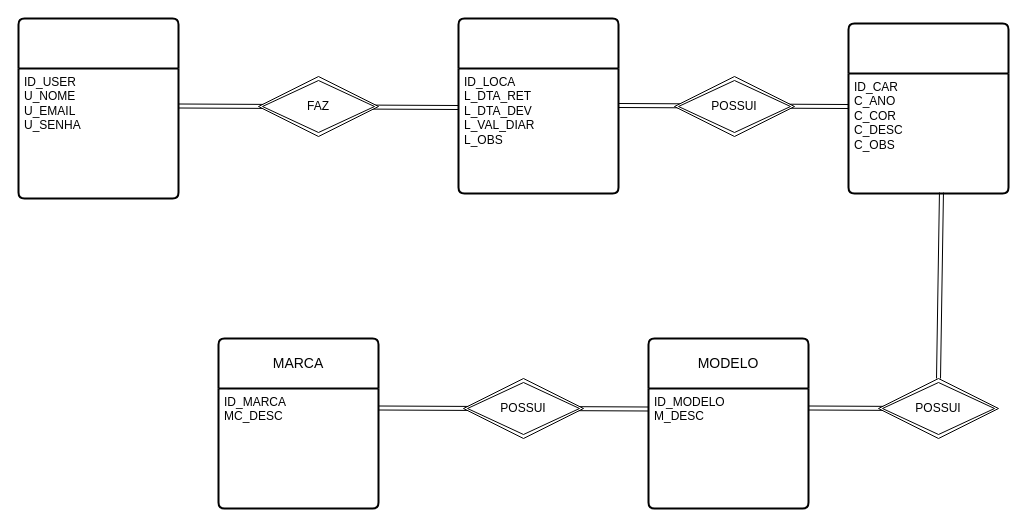
The diagram is 1026 pixels wide and 526 high, and some of its shapes have lost their labels. Each missing label, with the box of its shape:
CARRO: (847, 22, 1009, 194)
LOCACAO: (457, 17, 619, 194)
USUARIO: (17, 17, 179, 199)
